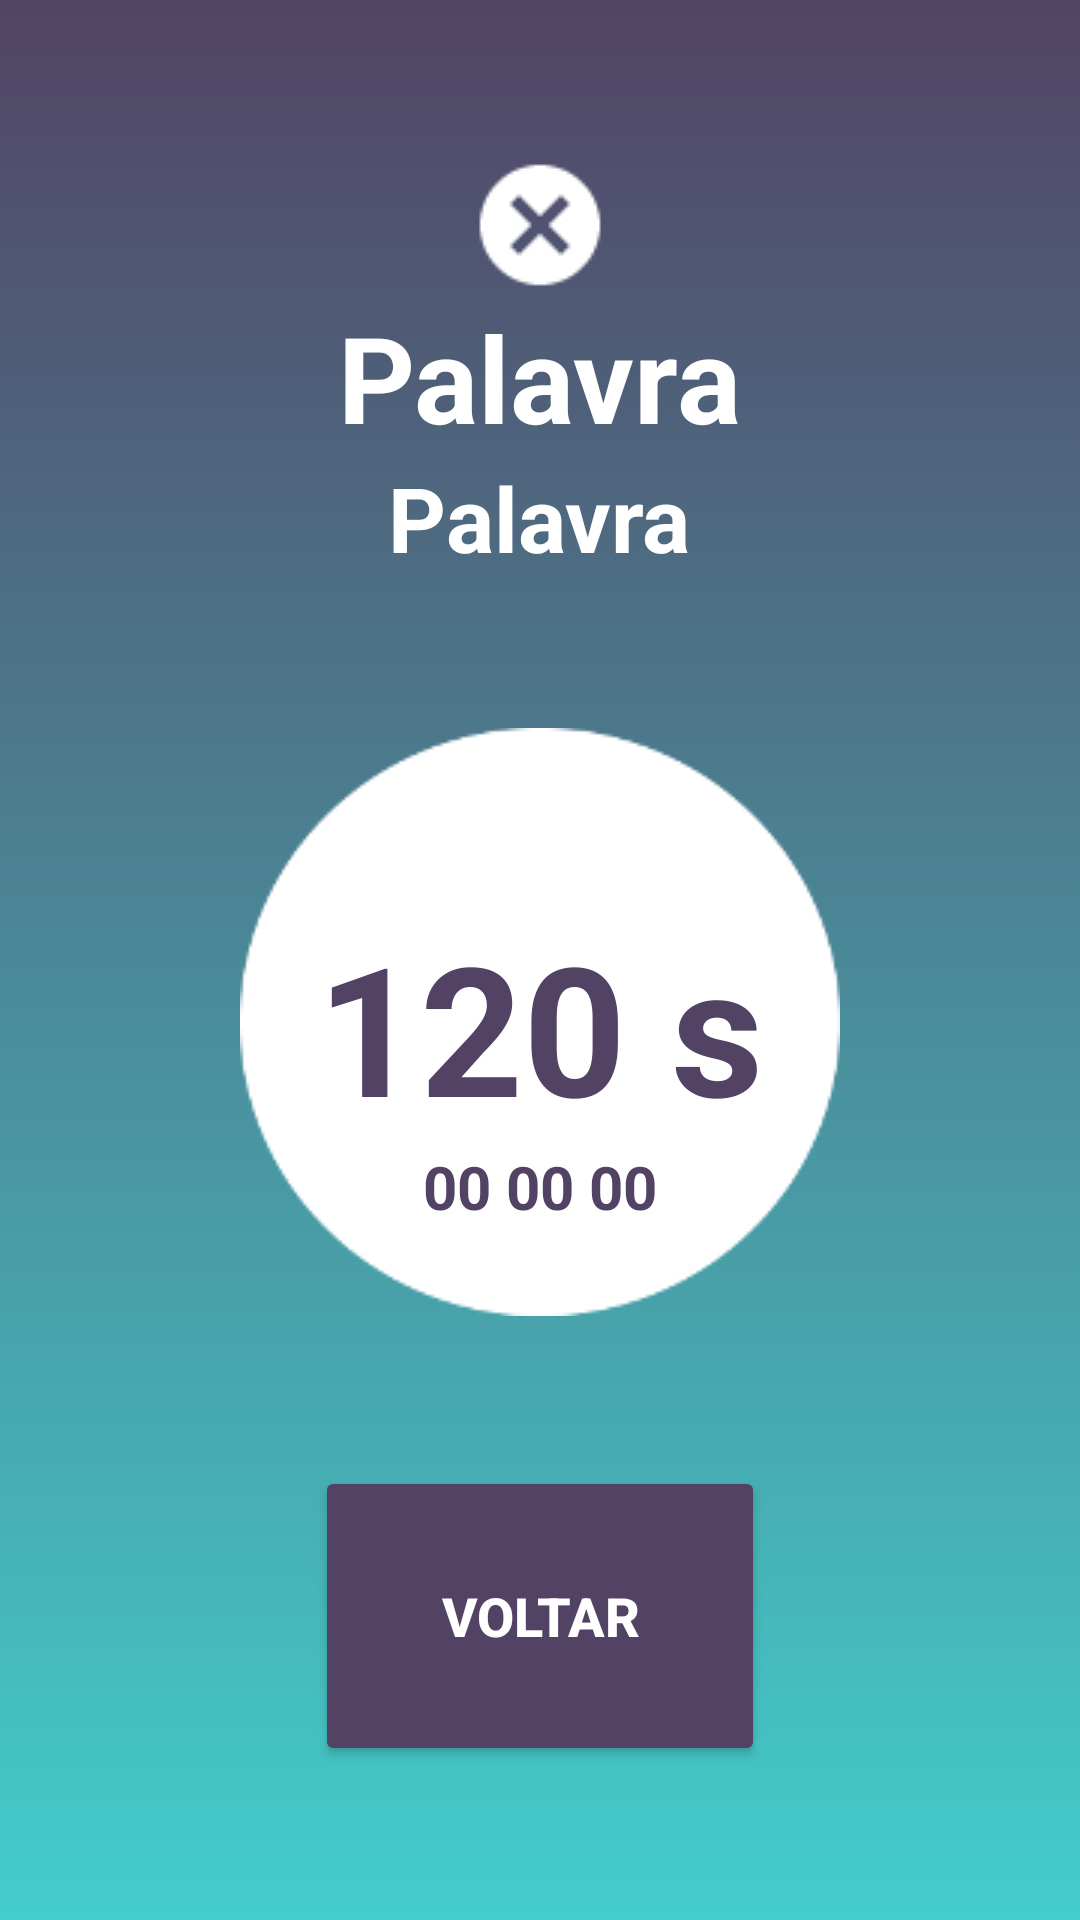

Icon bounding boxes for this 1080px x 1920px phone screenshot, format (x1, y1, x2, y2):
cancel: (479, 164, 601, 286)
